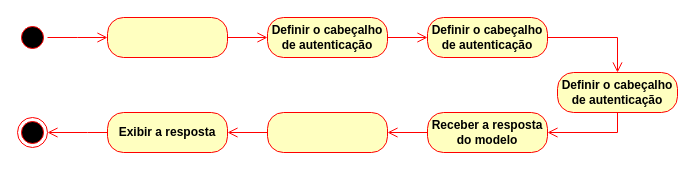
Image size: 695x170. Some labels were removed from this diagram. Here are the shapes that lost their labels. From the top down, the centre of each, then its label:
At point (167, 37): "Definir a URL da API".
At point (327, 132): "Processar a resposta do modelo".
